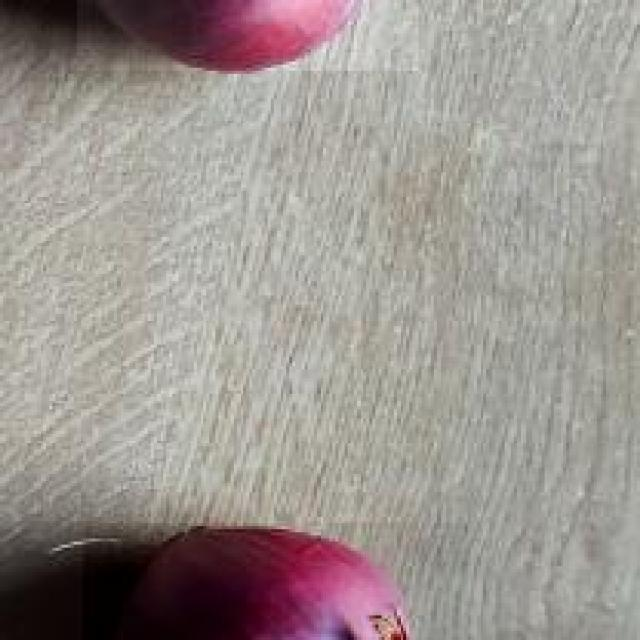onion: (83, 520, 471, 640), (77, 0, 421, 71)
